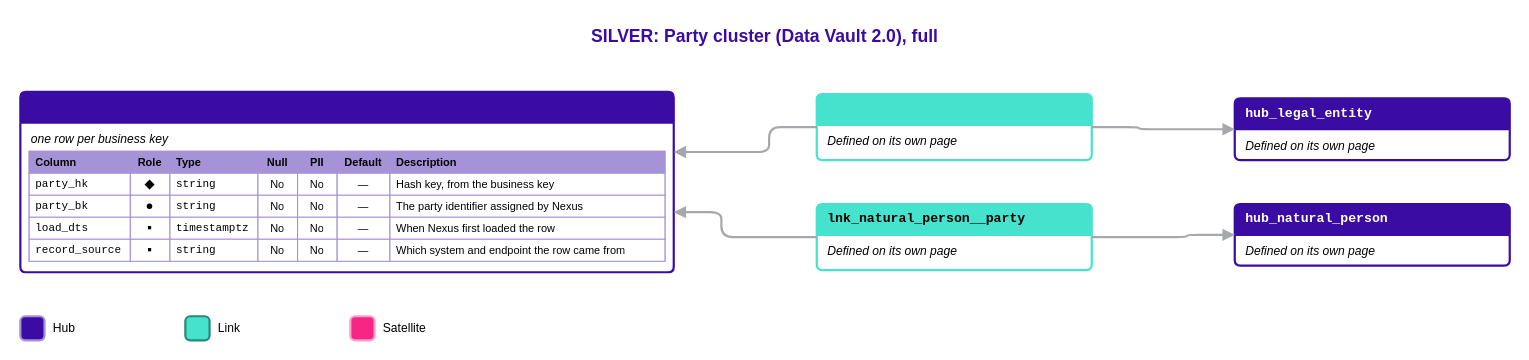
Some shapes in this 1529 by 360 pixel diagram are drawn without their labels. Here are the shapes that lost their labels. From the top down, the box of each, then its label:
(815, 92, 1092, 161): lnk_legal_entity__party
(19, 90, 674, 273): hub_party
